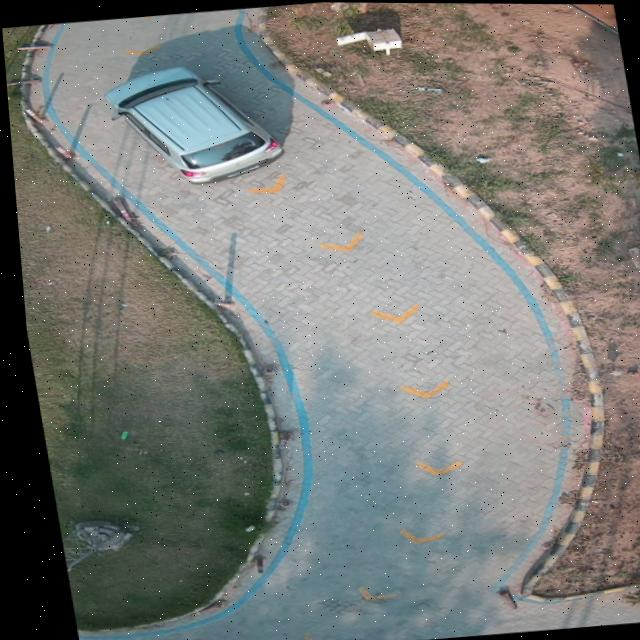car: (105, 63, 282, 181)
